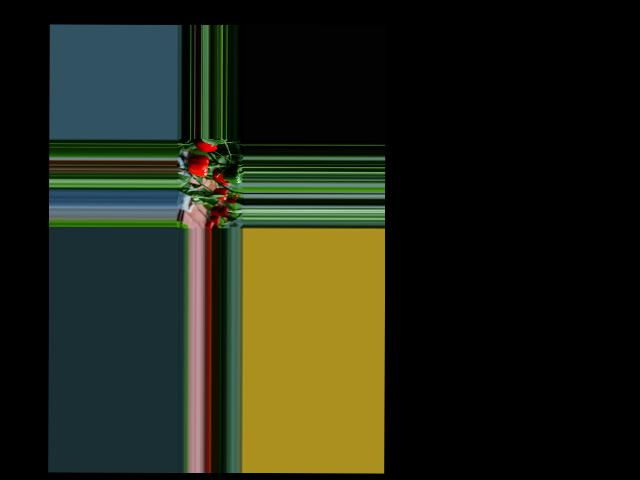bell_pepper: (209, 188, 231, 201)
